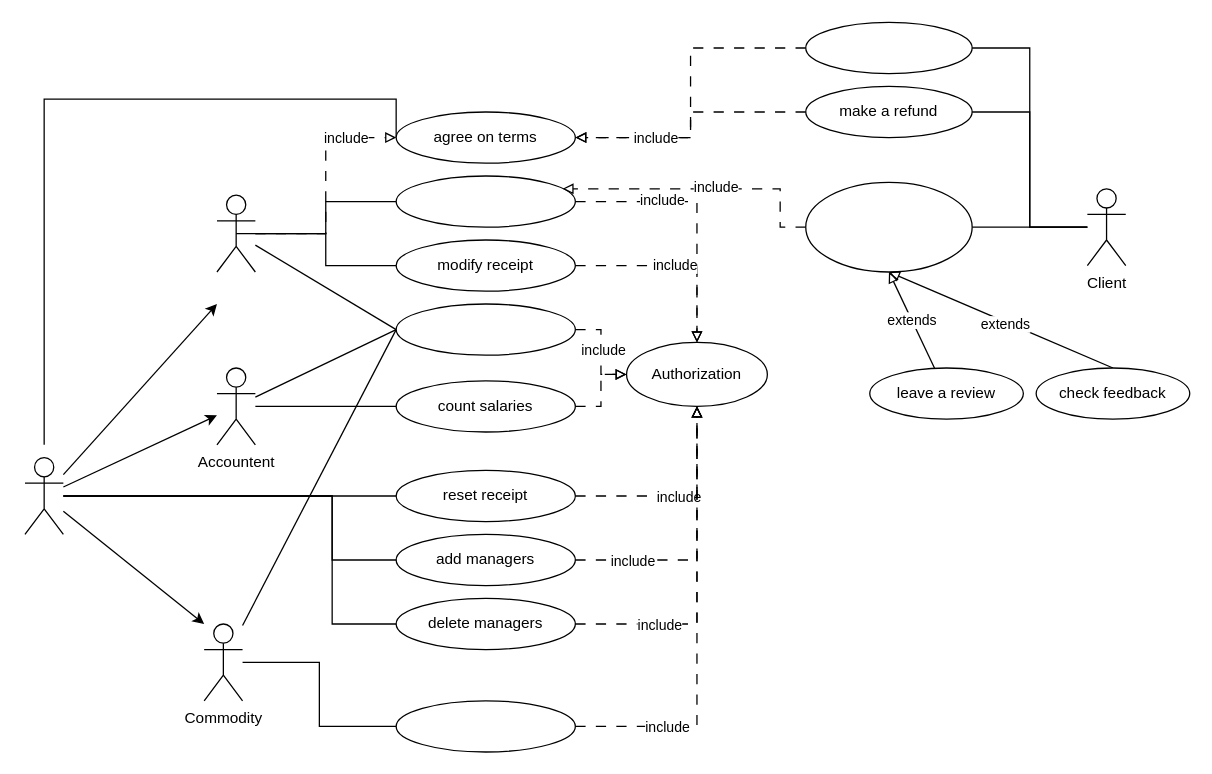
The diagram is 1212 pixels wide and 774 high, and some of its shapes have lost their labels. Here are the shapes that lost their labels. From the top down, the centre of each, then its label:
At (888,47): "change conditions".
At (485,201): "Create receipt".
At (235,233): "manager".
At (888,226): "To hand shoes or keys over".
At (485,329): "check statistics".
At (43,495): "Admin".
At (485,726): "manage materials".
